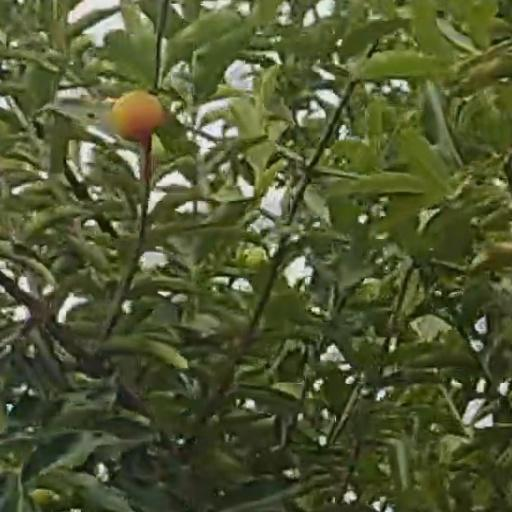acerola_vermelha: (113, 90, 160, 142)
